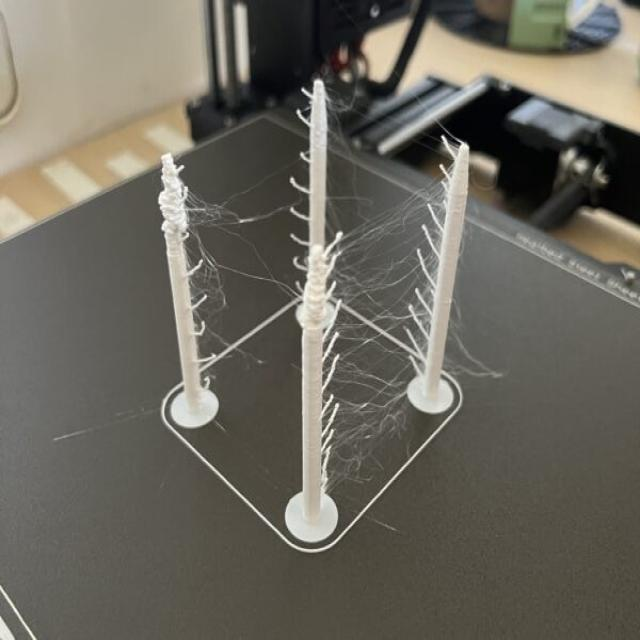stringing: (328, 161, 451, 497), (187, 193, 293, 360), (325, 87, 362, 174)
